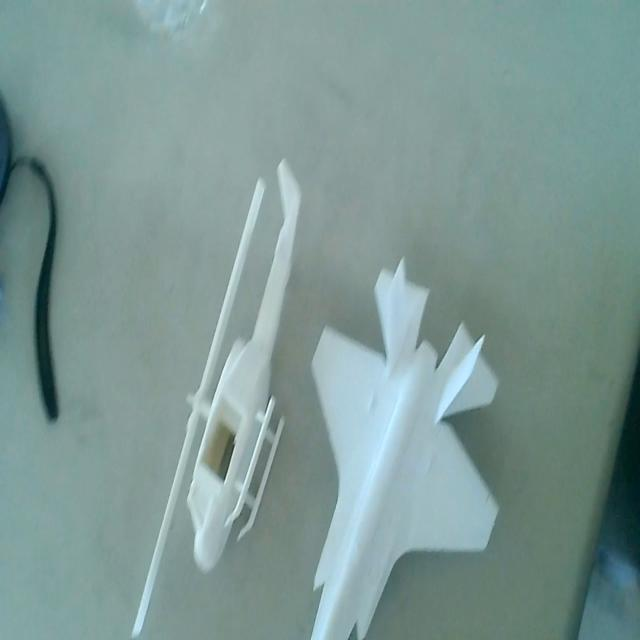Helicopter: (127, 151, 300, 638)
Jet: (310, 249, 500, 640)
